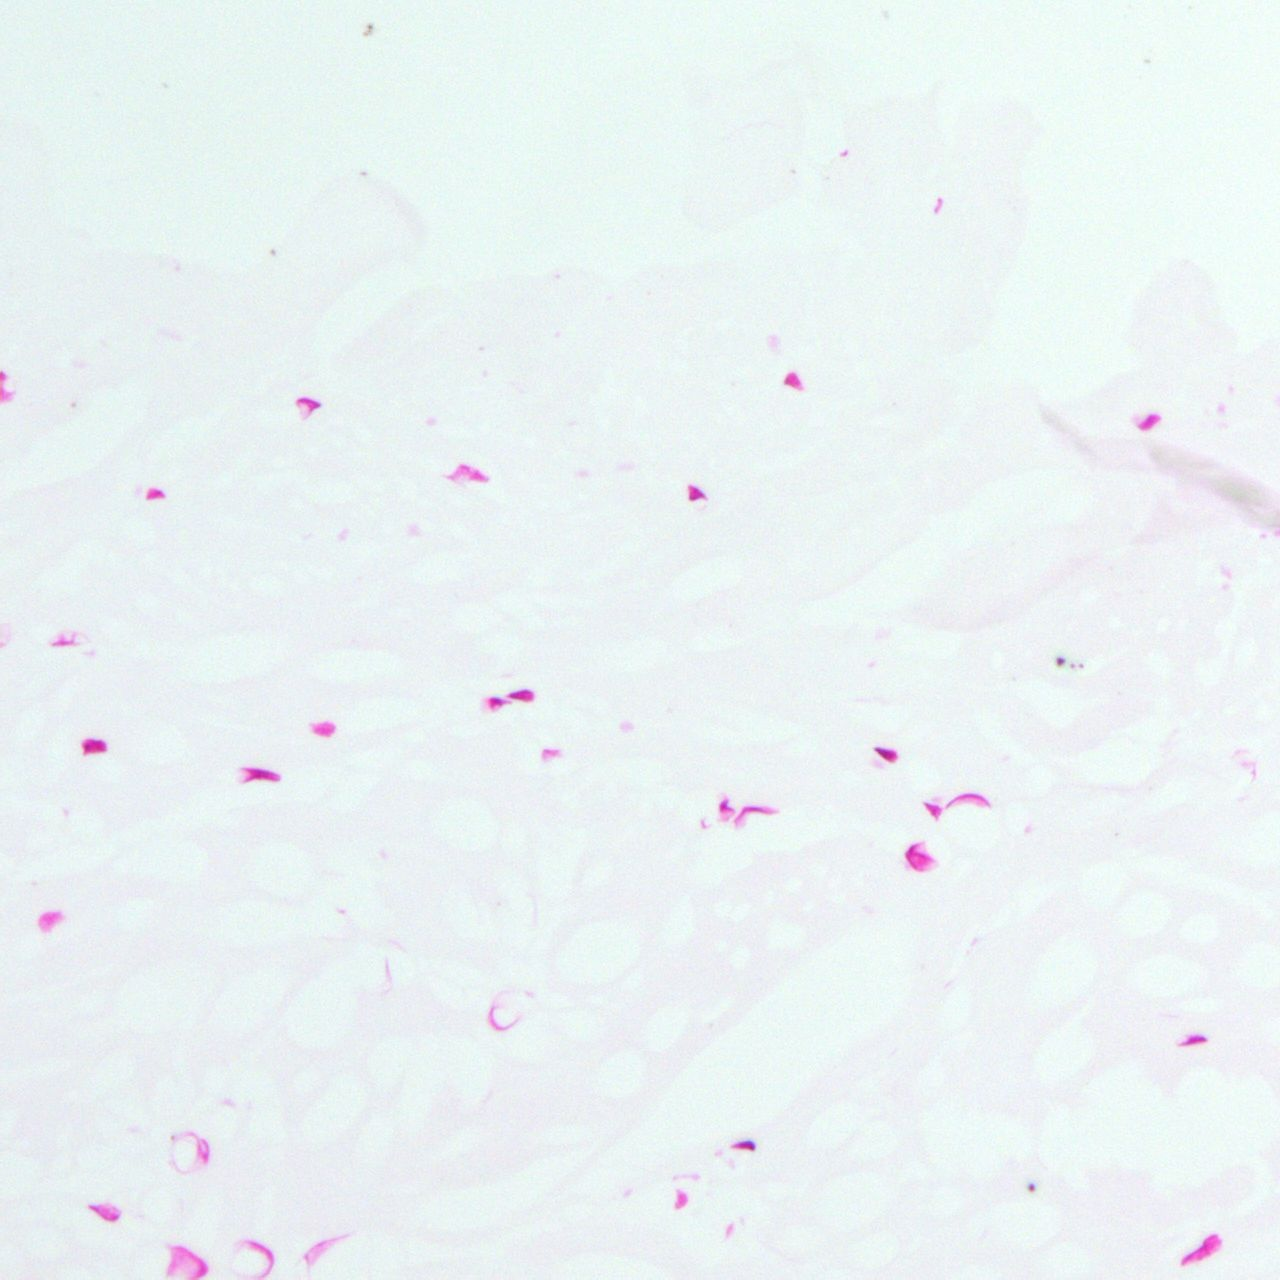dust: (363, 22, 373, 35), (1055, 656, 1065, 667), (1028, 1182, 1035, 1191), (359, 170, 368, 176), (1143, 57, 1151, 63), (270, 248, 275, 256)
nucleus-FG: (1176, 1228, 1228, 1271), (450, 459, 491, 493), (87, 1192, 122, 1225), (239, 764, 280, 789), (905, 840, 933, 873), (734, 806, 778, 826), (1135, 411, 1164, 436), (681, 482, 708, 508), (1175, 1030, 1208, 1048), (508, 685, 536, 704), (295, 394, 316, 420), (81, 737, 107, 756), (486, 695, 512, 714), (874, 744, 899, 761), (719, 794, 734, 817), (729, 1139, 756, 1151), (145, 486, 165, 499)
